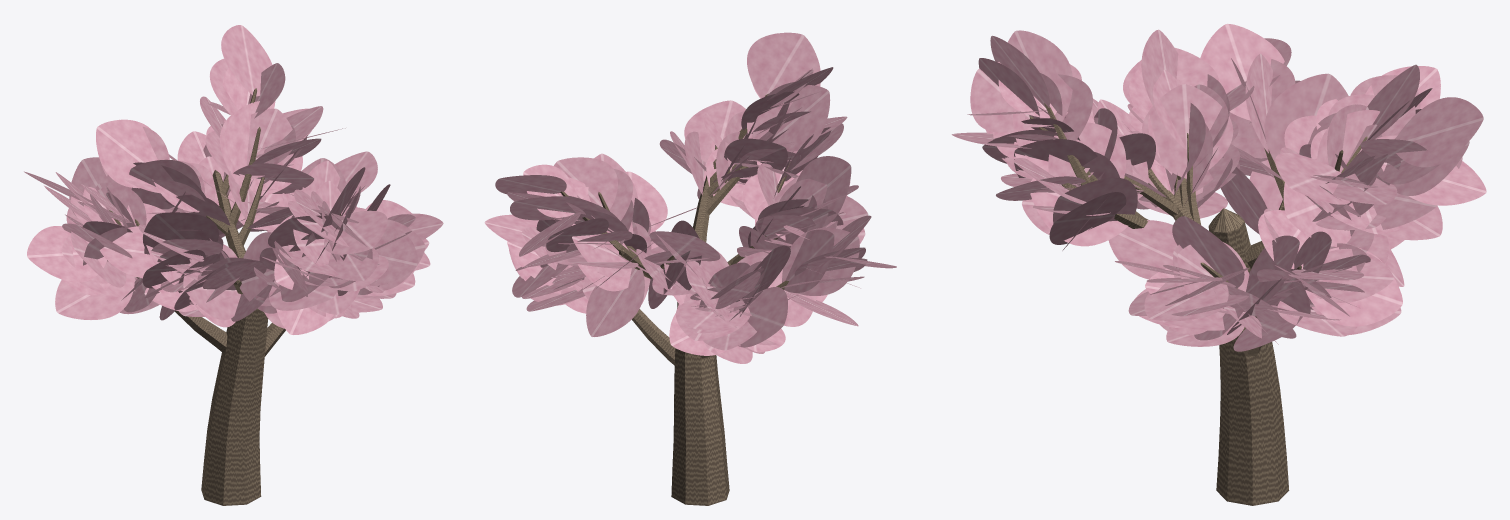
File: 벚나무_01.fbx
3 views of the same model, side by side, from view 1: azimuth 30°, elevation 25°; view 2: azimuth 150°, elevation 25°; view 3: azimuth 270°, elevation 25° (orthographic). The views are drawn at different scales.
Visible parts, largest first — view 1: 벚나무_01; view 2: 벚나무_01; view 3: 벚나무_01.
Boxes of the visible parts, x1,y1,x2,y2 form: 벚나무_01: (24,25,443,505); 벚나무_01: (484,32,896,505); 벚나무_01: (951,23,1486,505).
Bounding box in the file's own units: 6979 × 6840 × 7130.
Materials: 2 (2 with a texture image).
